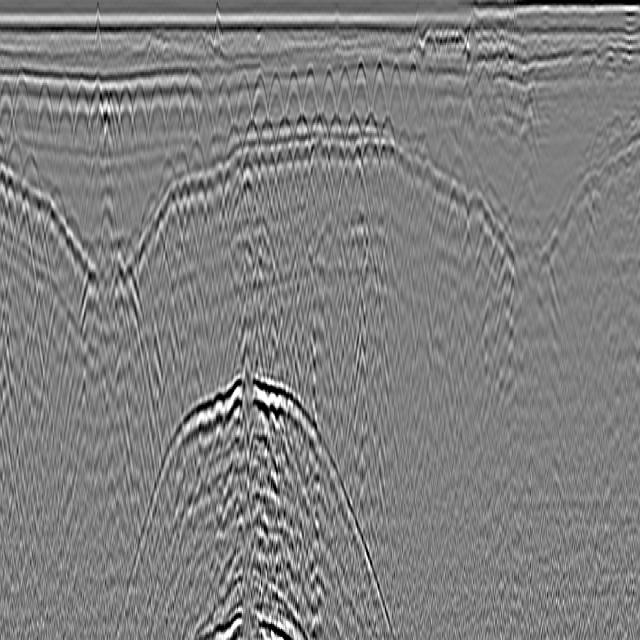hyperbola: (10, 58, 32, 176), (32, 68, 56, 176), (71, 68, 92, 178), (55, 68, 76, 171), (114, 80, 136, 178), (435, 78, 459, 164), (128, 80, 149, 174), (403, 52, 421, 146), (0, 64, 15, 174), (318, 58, 338, 140), (147, 80, 166, 166), (213, 68, 233, 148), (164, 74, 184, 153), (90, 61, 104, 171), (351, 55, 370, 135), (388, 58, 405, 143), (286, 61, 304, 140), (302, 55, 319, 138), (266, 68, 285, 140), (339, 55, 355, 138), (179, 81, 197, 153), (370, 61, 388, 132), (234, 68, 252, 138), (252, 62, 268, 135)
